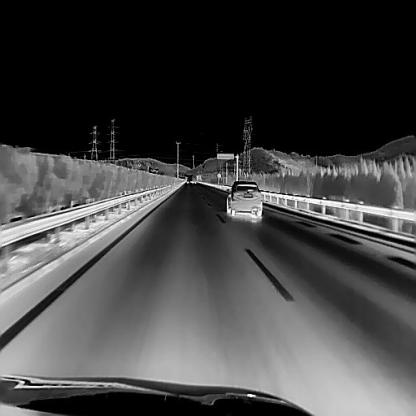car: (224, 180, 262, 216)
truck: (191, 175, 196, 183)
